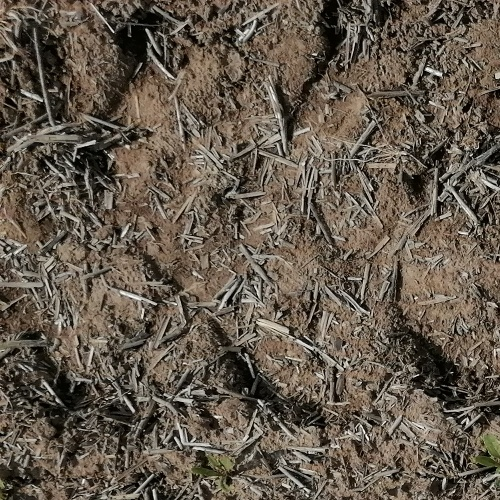beet: (192, 451, 236, 493), (473, 433, 500, 470)
